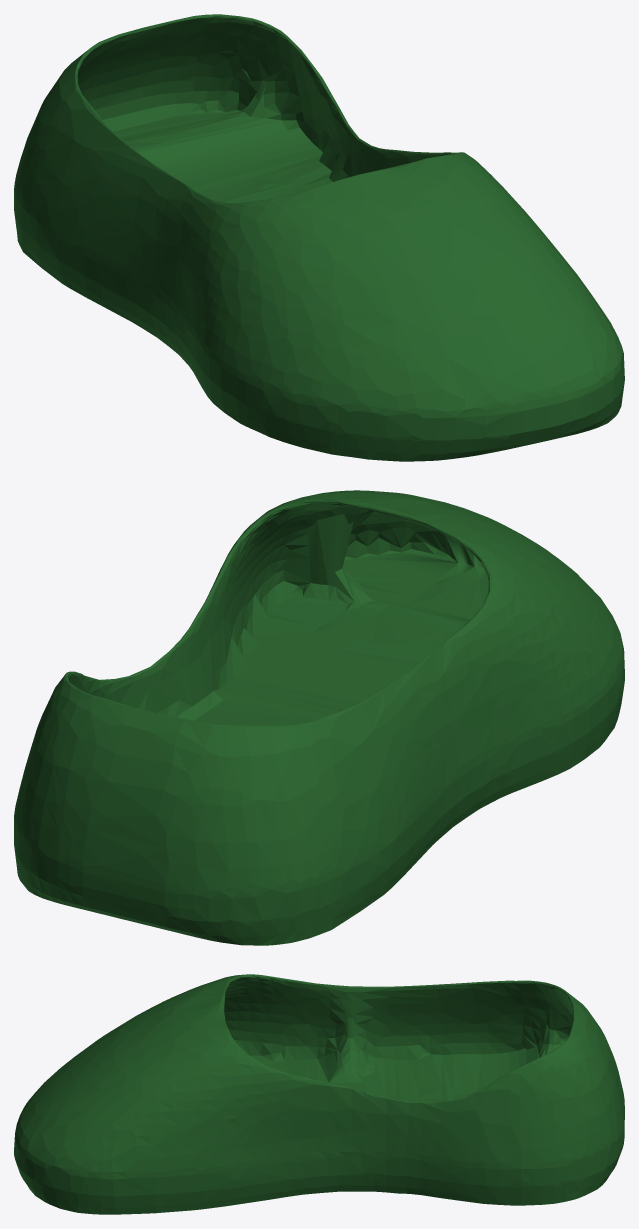
The model's file is sim_sea_2-5_r_sole_prt.obj.
3 views of the same model, one above another, from view 1: azimuth 30°, elevation 25°; view 2: azimuth 150°, elevation 25°; view 3: azimuth 270°, elevation 25° (orthographic). The views are drawn at different scales.
Visible parts, largest first — view 1: sim_sea_2-5_r_sole_prt; view 2: sim_sea_2-5_r_sole_prt; view 3: sim_sea_2-5_r_sole_prt.
Boxes of the visible parts, x1,y1,x2,y2 form: sim_sea_2-5_r_sole_prt: [14, 14, 624, 461]; sim_sea_2-5_r_sole_prt: [14, 490, 624, 945]; sim_sea_2-5_r_sole_prt: [14, 974, 624, 1214].
Size of the model in its own units: 97.09 by 55.17 by 198.
